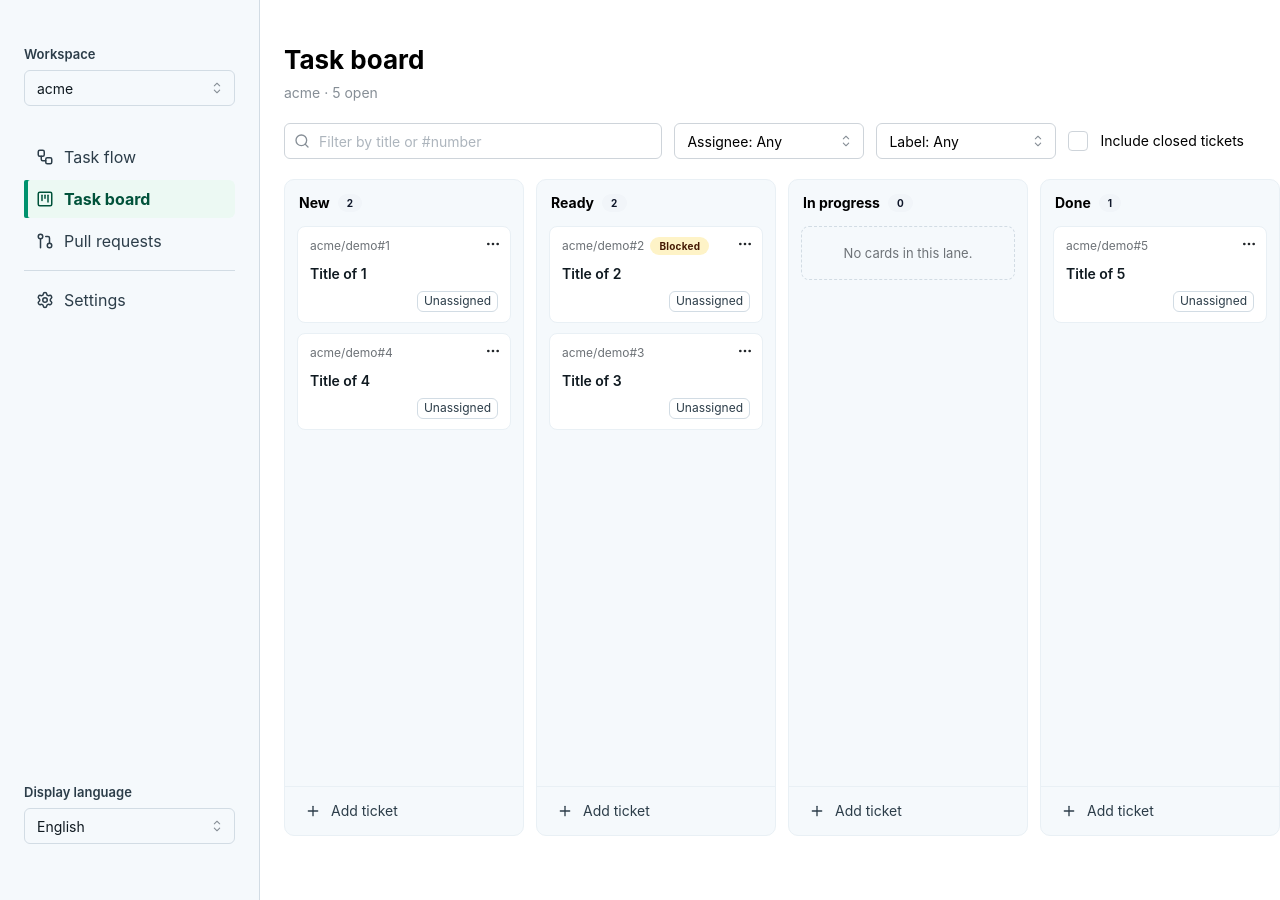
Test: relations › is reached from the sidebar and lays out parents, their collapsed dependencies, and tickets without relations
What coordinates should you click on to do the following:
click the link "Task flow"
I would click on:
 (86, 157)
Its box is [36,147,136,167].
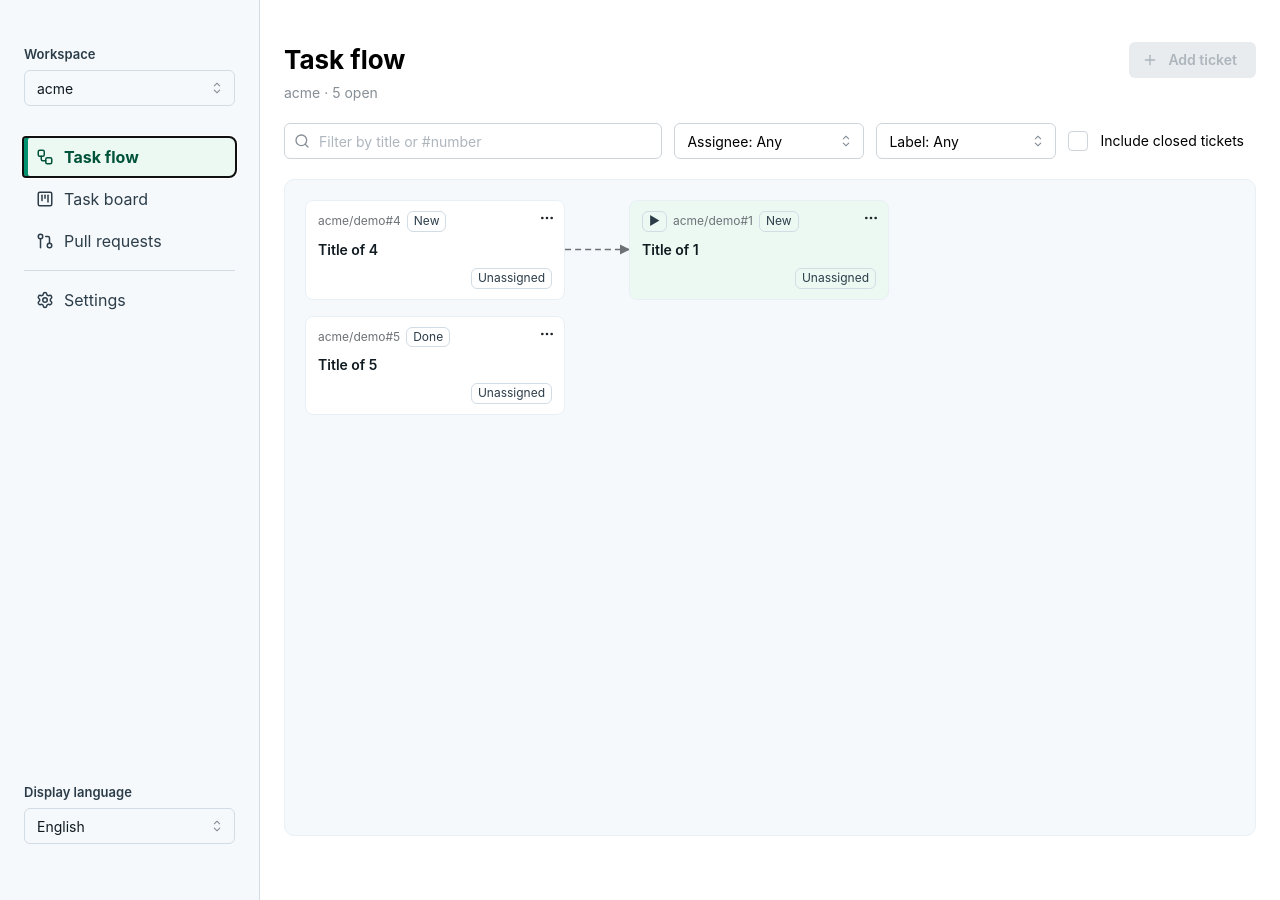
expect the element "▶ acme/demo#1 New Title of 1 Unassigned" is shown: met, box [629,200,889,300]
expect the link "acme/demo#2 " is gone: met
